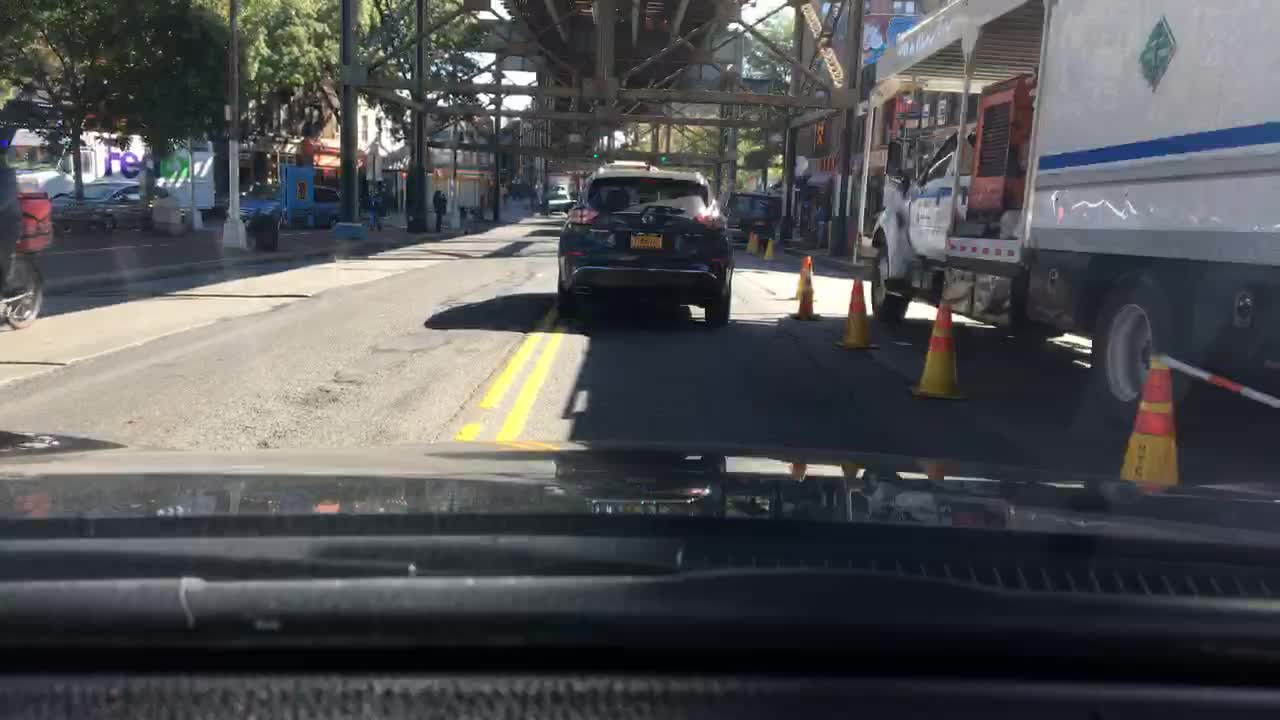bike: (0, 249, 40, 331)
car: (556, 160, 731, 326), (721, 187, 794, 244), (52, 181, 116, 214), (107, 185, 169, 203), (315, 189, 342, 226), (546, 187, 575, 214)
person: (367, 178, 390, 232), (431, 186, 445, 232)
rider: (0, 147, 25, 256)
traffic light: (658, 150, 669, 166), (592, 148, 602, 164)
truck: (868, 0, 1277, 427), (15, 123, 218, 211), (223, 163, 313, 230)
